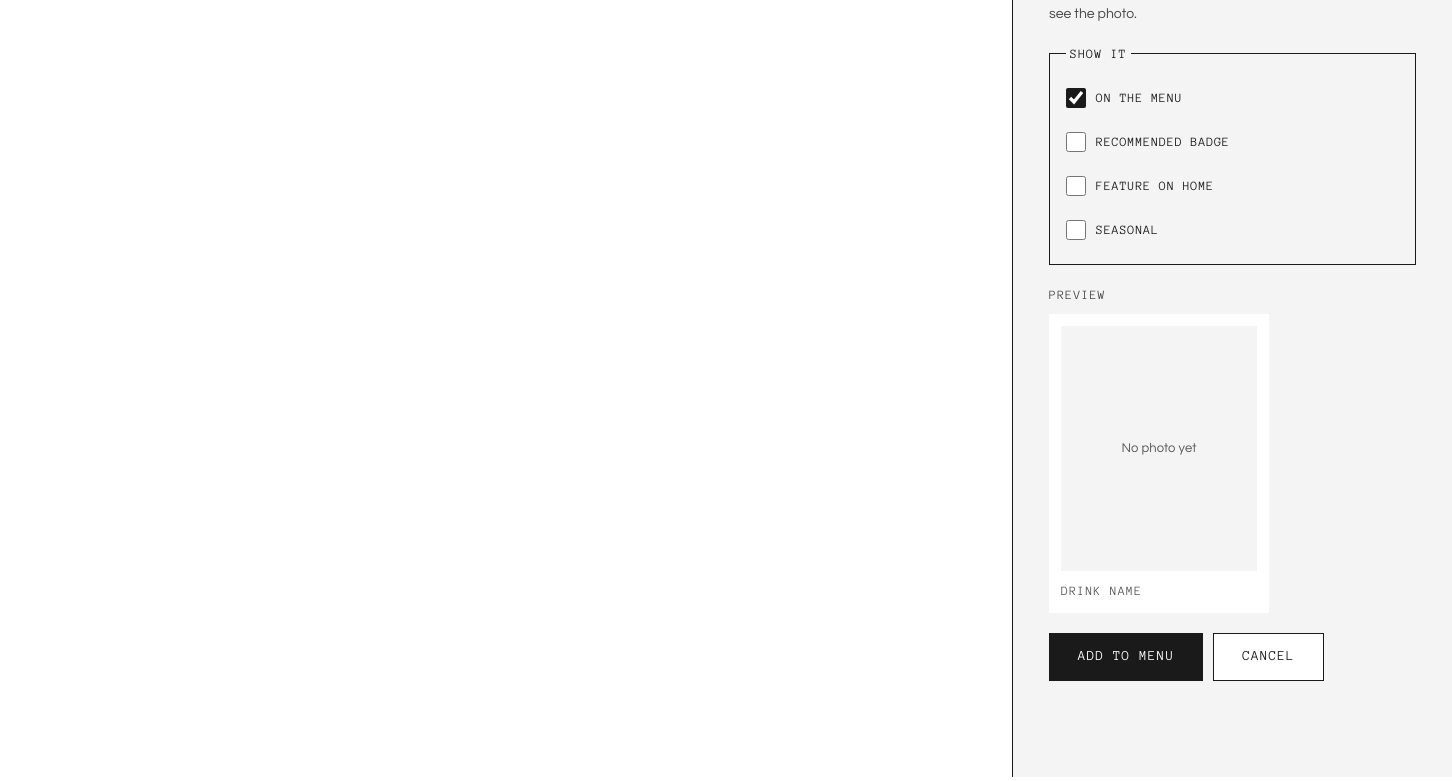
Test: shows required-field errors linked to their fields, with a focused summary
(page scrolled)
What coordinates should you click on to do the following:
click the button "Add to menu"
I would click on:
 (1126, 656)
Its box is top-left (1049, 632), bottom-right (1203, 680).
(page scrolled)
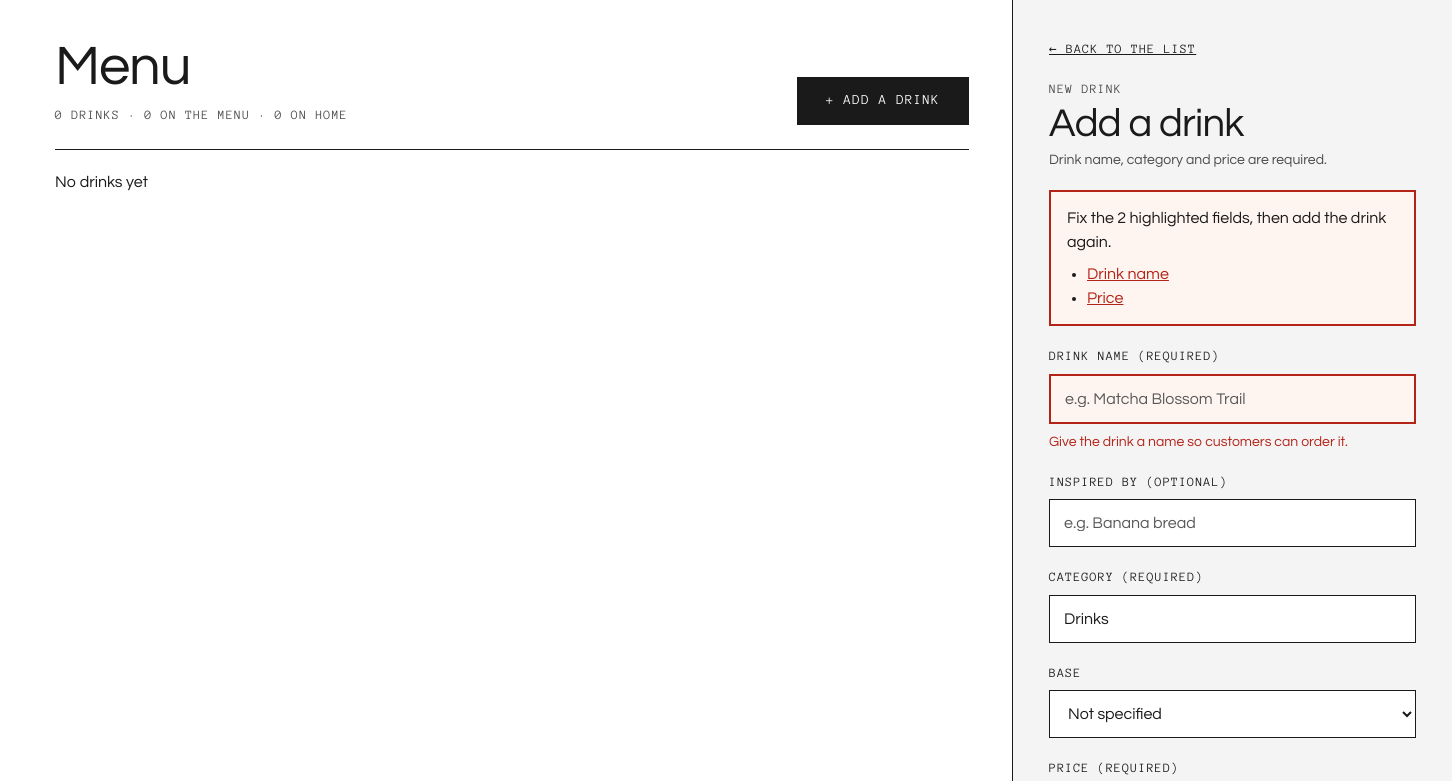
Now the message shows "Fix the 2 highlighted fields, then add the drink again.", box top-left (1049, 190), bottom-right (1416, 326)
